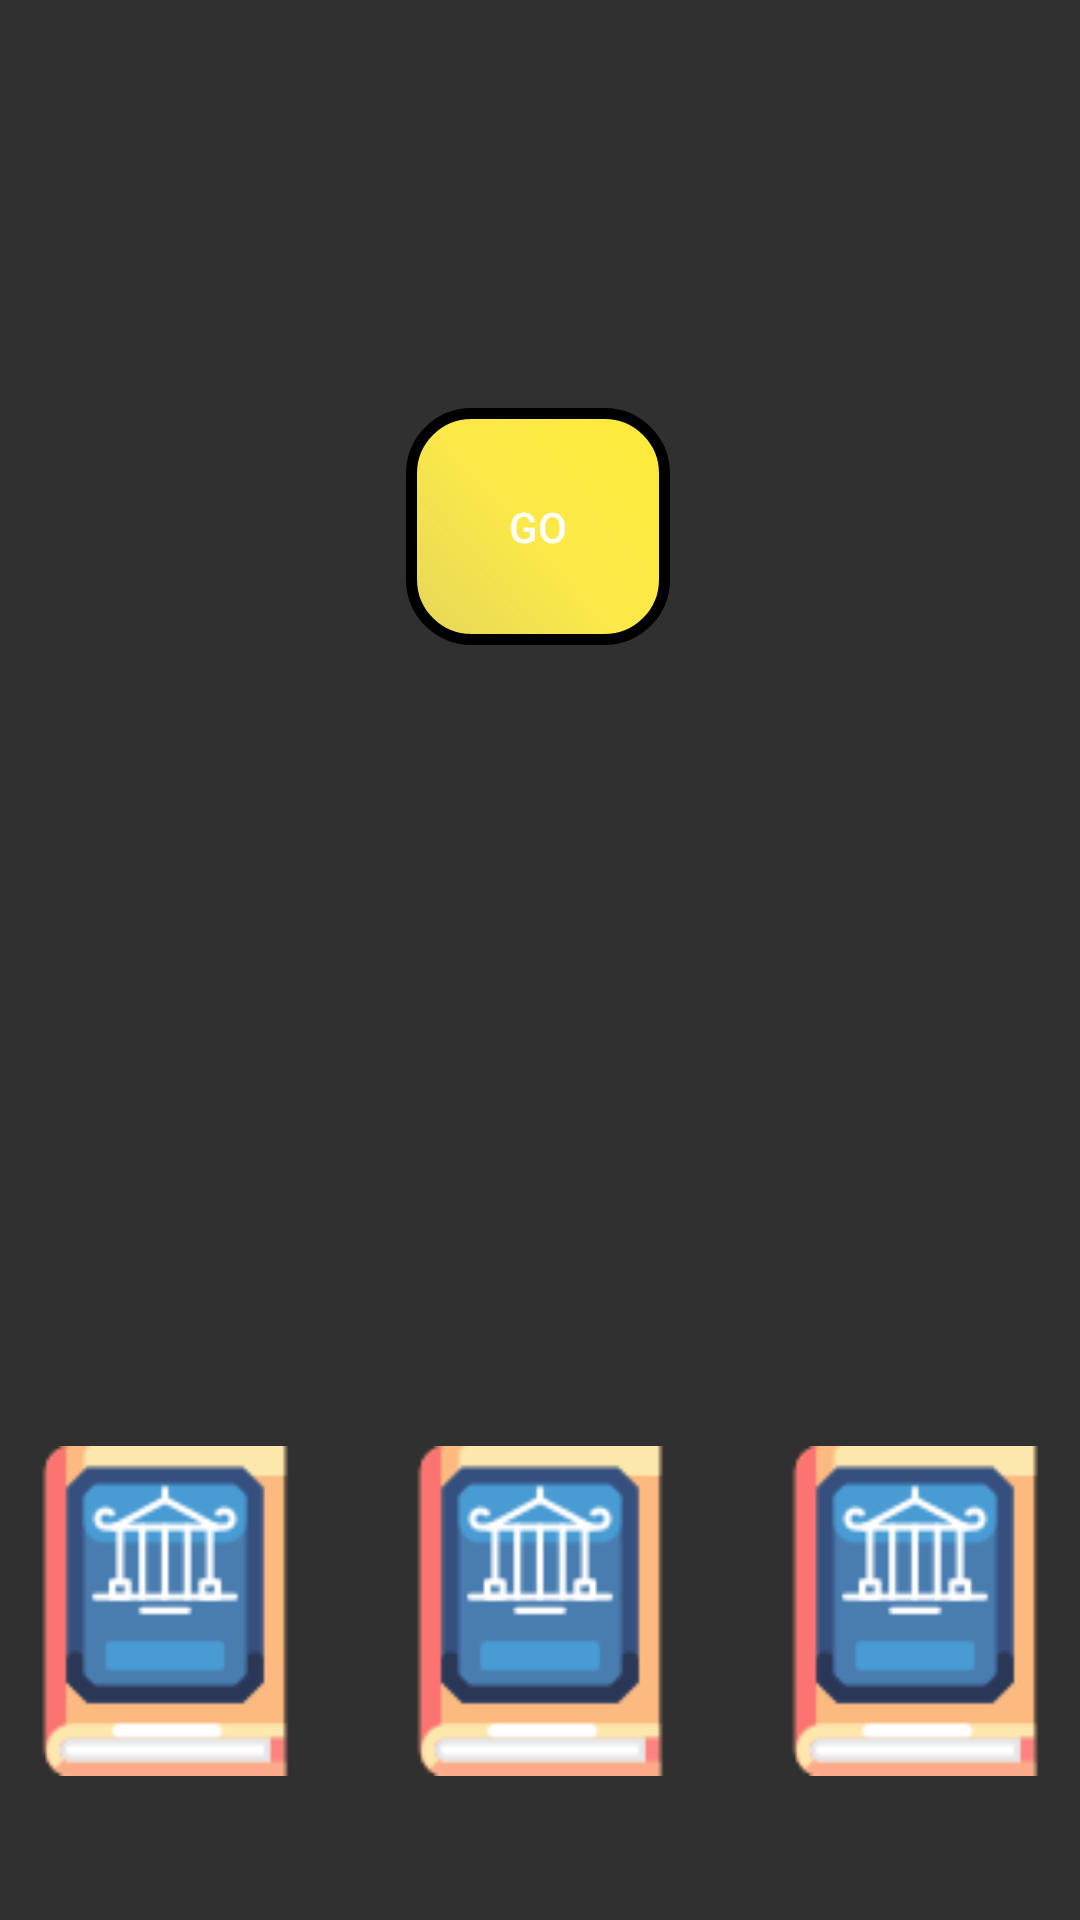

Where to tap for icons on this 1080 × 1920 app screen, as point (x, y):
book: point (165, 1611), point (540, 1611), point (915, 1611)
